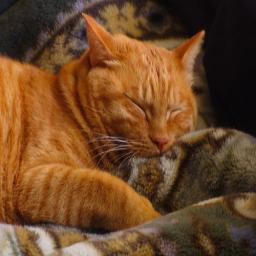catnose: (150, 134, 170, 151)
